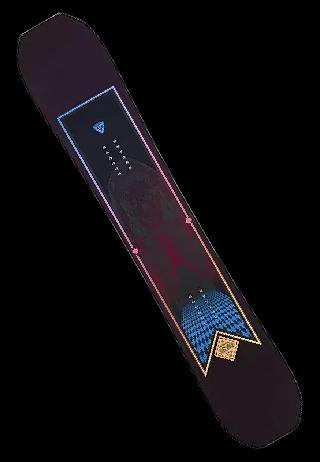Snowboard: (15, 11, 303, 449)
